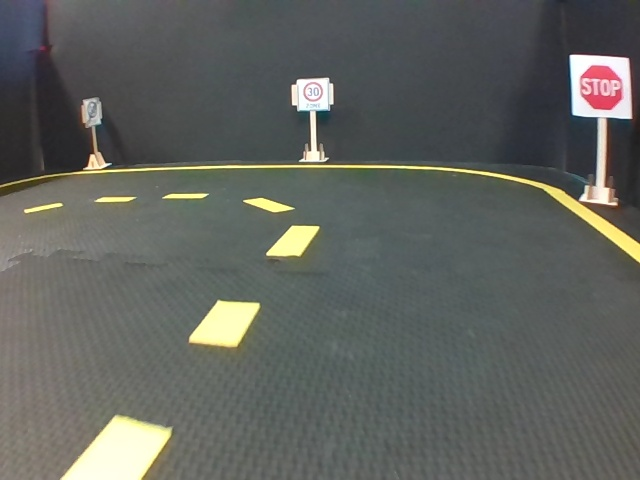30: (296, 81, 328, 108)
no30: (85, 99, 98, 123)
stop: (571, 55, 631, 120)
